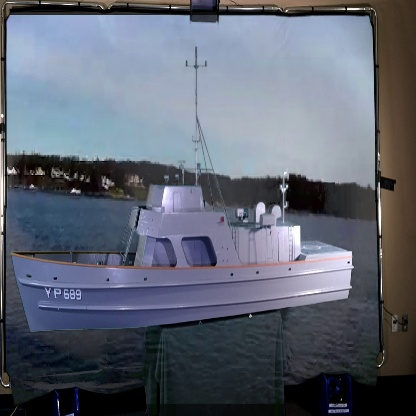YP689: (10, 47, 355, 338)
